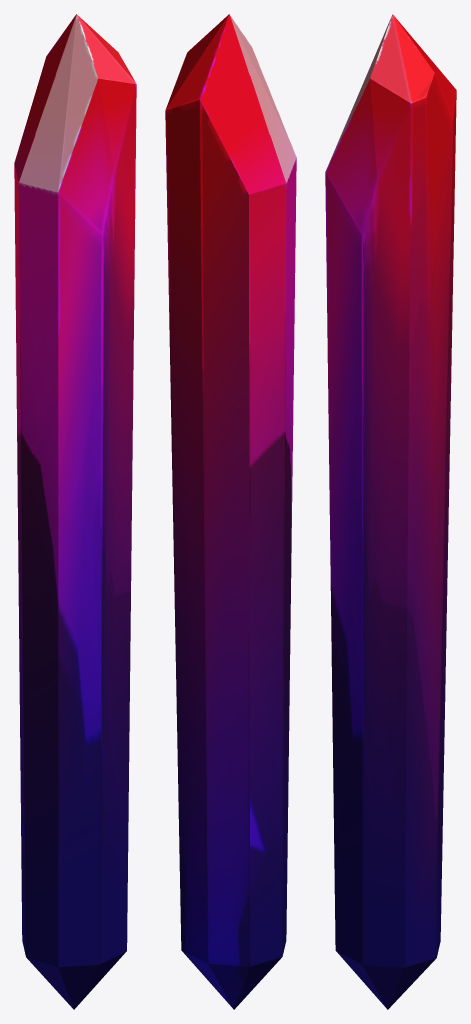
Rendered from crystal.fbx.
3 views of the same model, side by side, from view 1: azimuth 30°, elevation 25°; view 2: azimuth 150°, elevation 25°; view 3: azimuth 330°, elevation 25° (orthographic).
Visible parts, largest first — view 1: crystal17_2.001; view 2: crystal17_2.001; view 3: crystal17_2.001.
Boxes of the visible parts, x1,y1,x2,y2 form: crystal17_2.001: [14, 14, 136, 1009]; crystal17_2.001: [165, 14, 296, 1009]; crystal17_2.001: [325, 14, 456, 1009].
Size of the model in its own units: 0.1795 by 1.61 by 0.1703.
